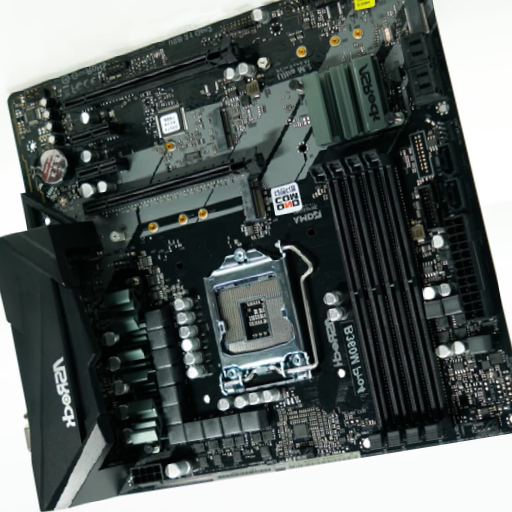CPU: (204, 248, 308, 395)
GPU: (63, 35, 238, 113), (85, 146, 266, 215)
MOTHERBOARD: (9, 3, 511, 493)
RAM: (308, 148, 452, 454)
SSD: (237, 175, 269, 220), (208, 111, 231, 149)
